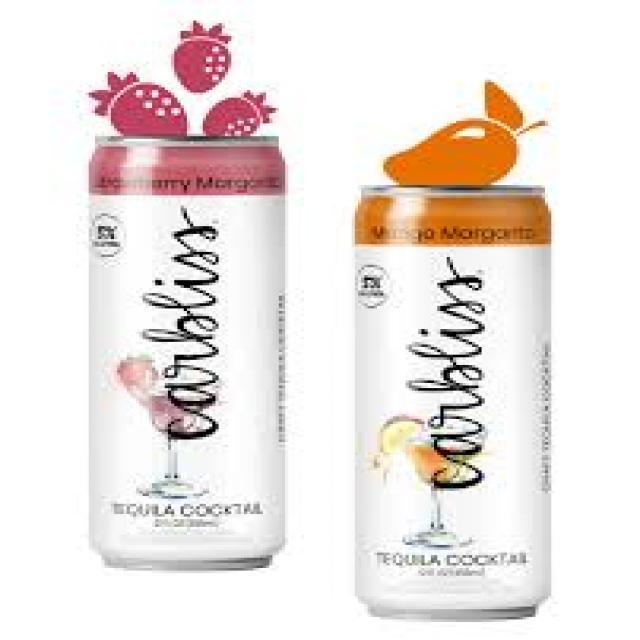Cans: (70, 126, 304, 578), (339, 178, 564, 624)
